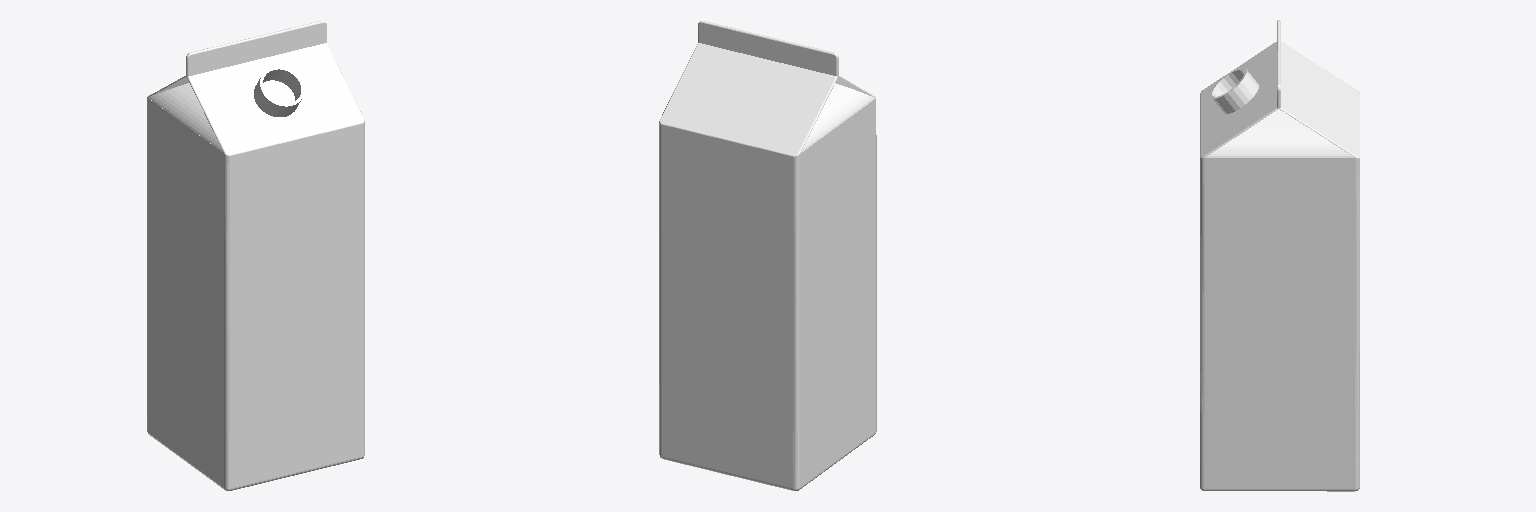
URDF robot description (milk):
<?xml version="1.0" encoding="utf-8"?>
<robot name="milk">
  <link name="base_link">
    <contact>
      <lateral_friction value="0.5"/>
      <rolling_friction value="0.0"/>
      <contact_cfm value="0.0"/>
      <contact_erp value="1.0"/>
    </contact>
    <inertial>
      <origin rpy="0 0 0" xyz="0 0 0"/>
      <mass value="5"/>
      <inertia ixx="0" ixy="0" ixz="0" iyy="0" iyz="0" izz="0"/>
    </inertial>
    <visual>
      <origin rpy="1.57 0 0" xyz="0 0 0"/>
      <geometry>
        <mesh filename="models/meshes/milk/milk.obj" scale="1 1 1"/>
      </geometry>
      <material name="tray_material">
        <color rgba="1 1 1 1"/>
      </material>
    </visual>
    <collision>
      <origin rpy="1.57 0 0" xyz="0 0 0"/>
      <geometry>
        <mesh filename="models/meshes/milk/milk.obj" scale="1 1 1"/>
      </geometry>
    </collision>
  </link>
</robot>

--- What the picture shows (computed from the rendered views, not written in the file) ---
The picture shows the robot from 3 angles, left to right: view 1: azimuth 30°, elevation 25°; view 2: azimuth 150°, elevation 25°; view 3: azimuth 270°, elevation 25°; orthographic projection.
Robot: milk — 1 links, 0 joints (none); root link base_link; default pose: all joints at 0.
Visible links, largest first — view 1: base_link; view 2: base_link; view 3: base_link.
Boxes of the visible links, left/top/right/bottom form: base_link: left=147, top=21, right=364, bottom=490; base_link: left=659, top=21, right=876, bottom=490; base_link: left=1200, top=20, right=1359, bottom=491.
Size in the robot's own frame: 0.1 by 0.1002 by 0.28 metres.
1 mesh visuals loaded from 1 distinct referenced files (1 OBJ).